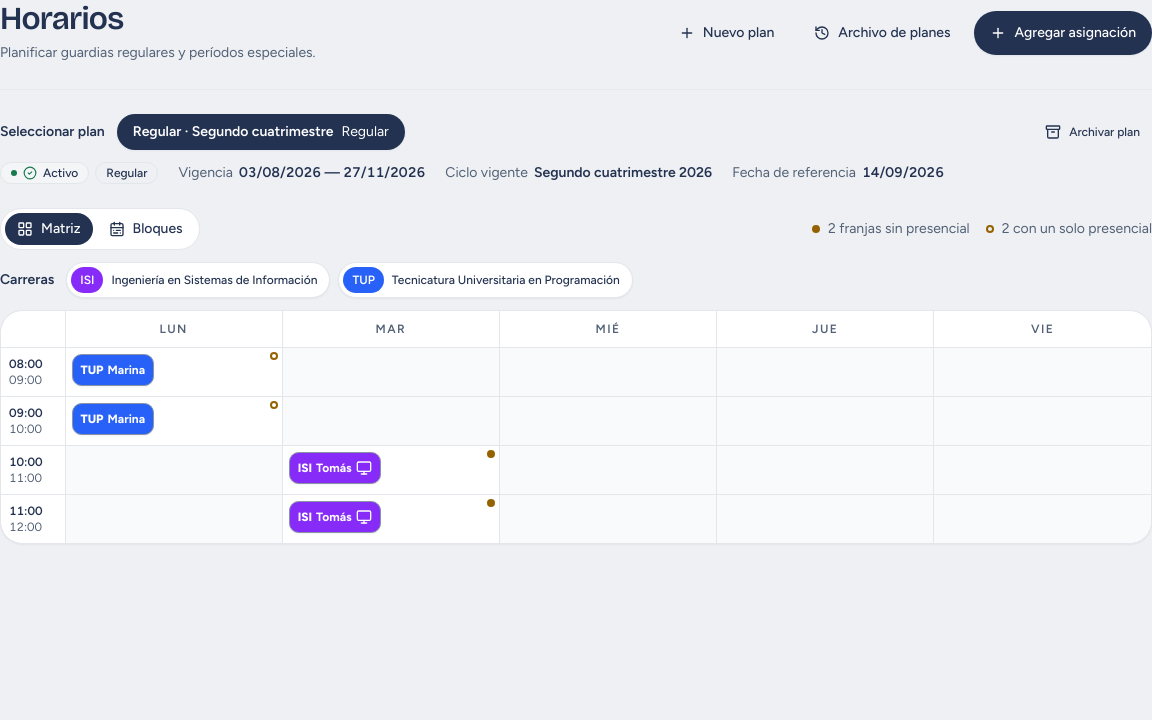
Test: SchedulesScreen › deletes an assignment and archives the plan through their protected endpoints
Click the button named "Benítez, Marina, Tecnicatura Universitaria en Programación, lunes, 08:00 a 10:00" at (113, 370), box [72,354,154,386]
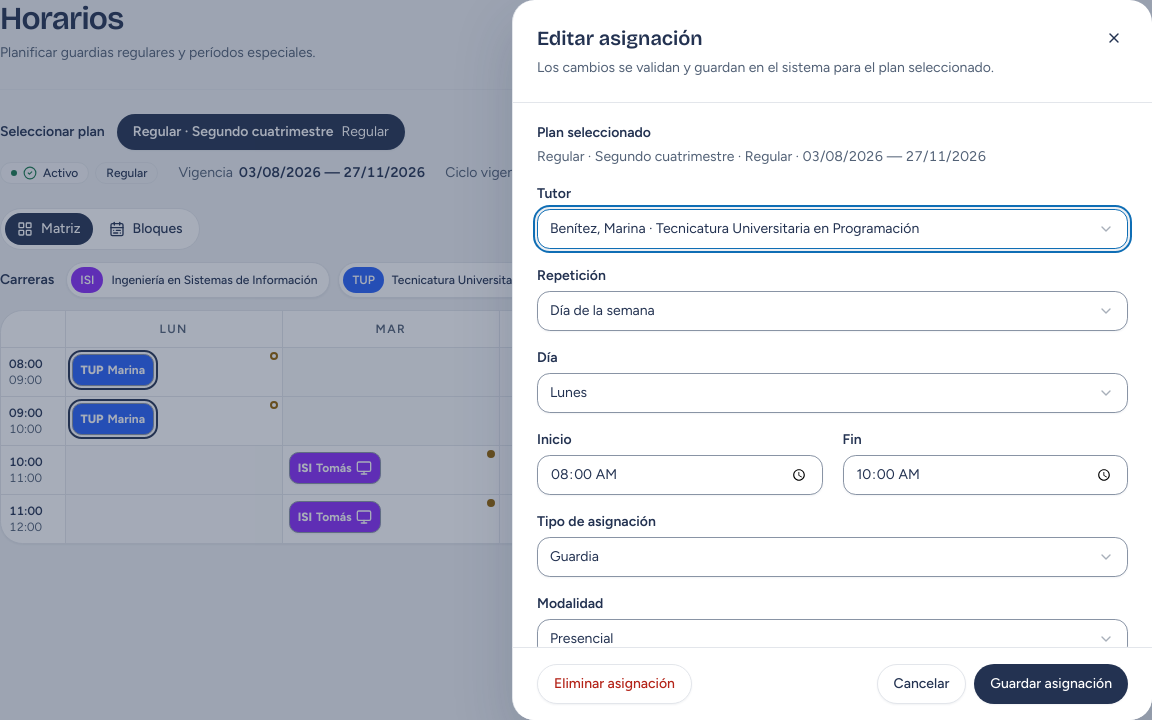
Click the button "Eliminar asignación" at (614, 684), box [537,664,692,704]
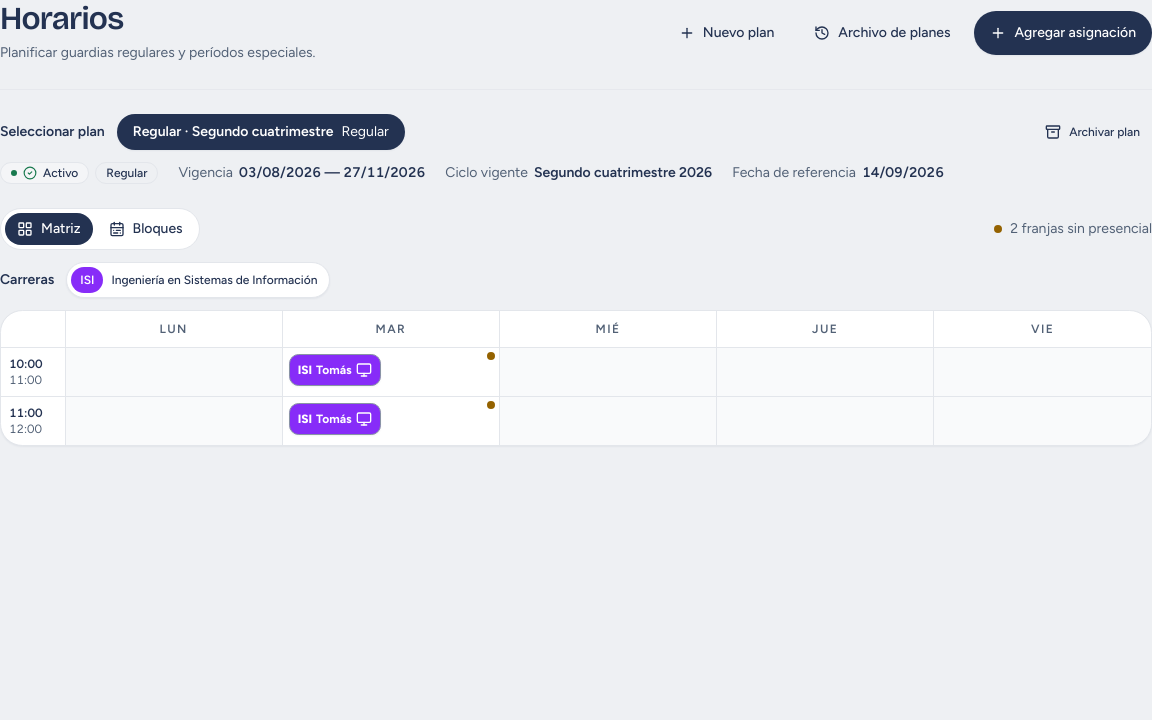
Now the heading "Editar asignación" is gone
Click the button "Archivar plan" at (1093, 132), box [1033,116,1151,148]
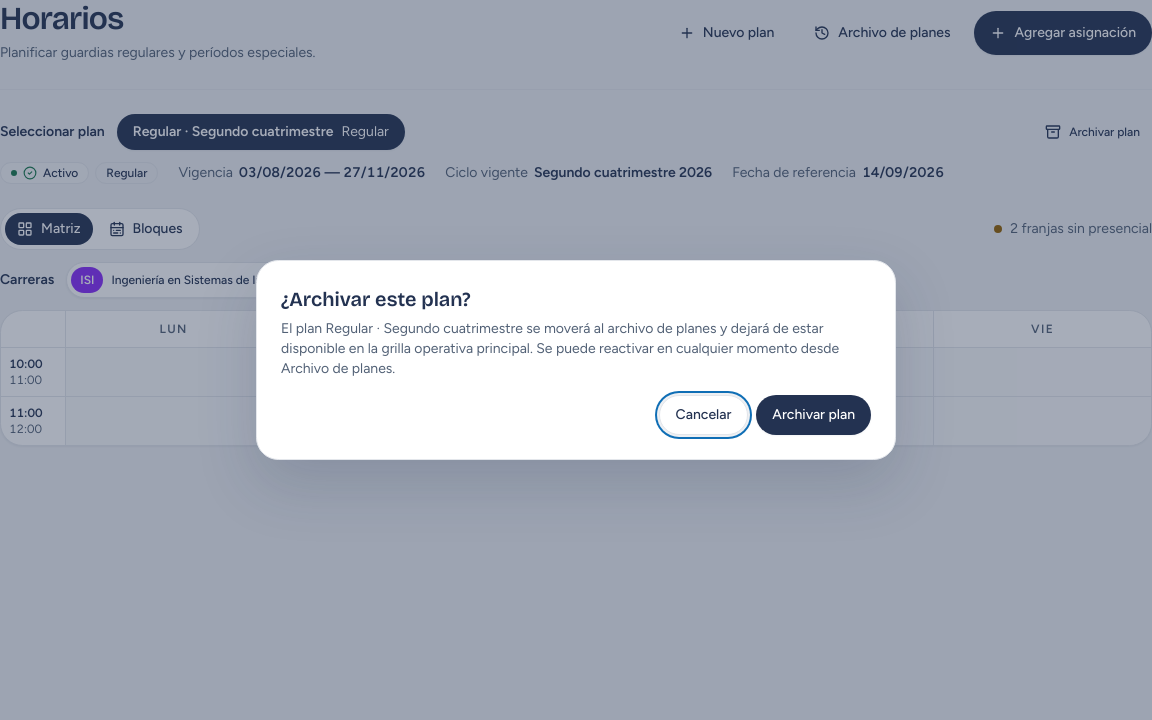
Click the button "Archivar plan" at (814, 415), box [756,395,871,435]
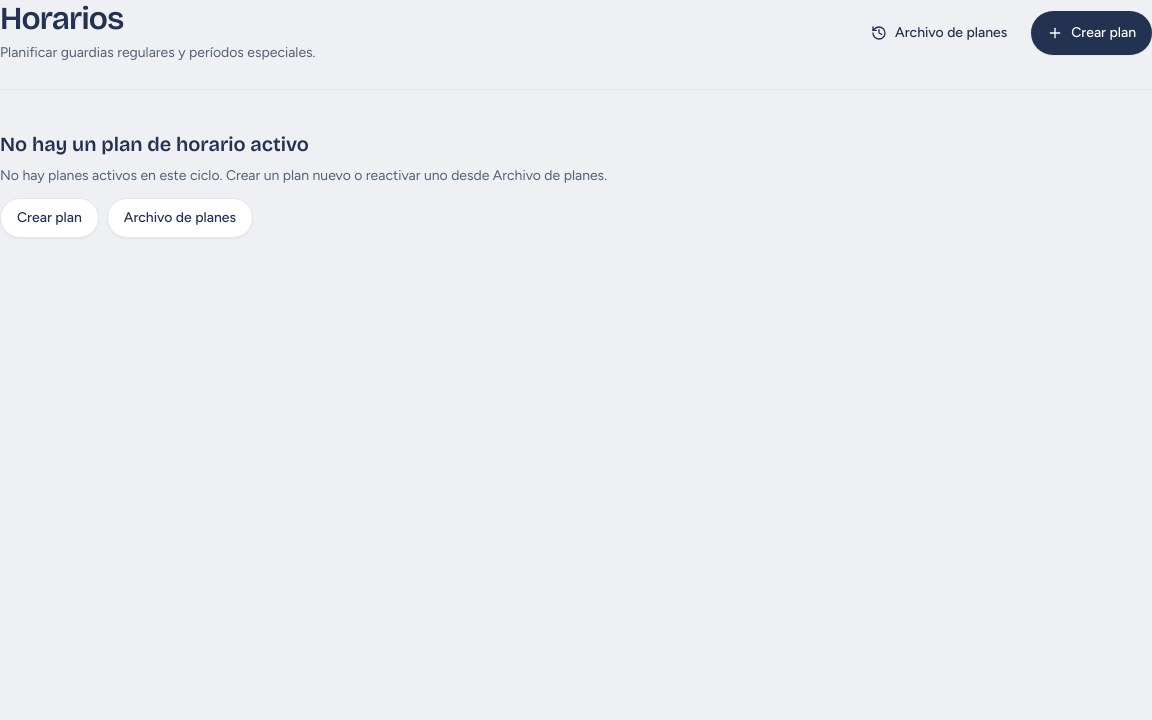
Now the message shows "No hay un plan de horario activo", box [0,132,309,156]
